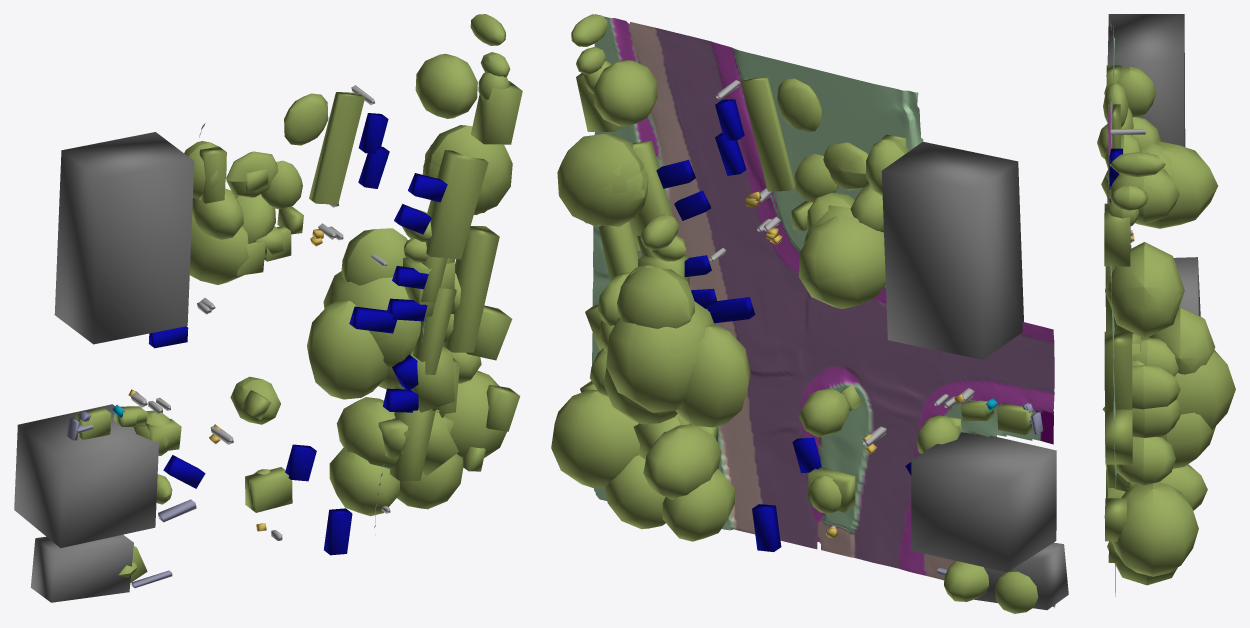
The model's file is medium_279.glb.
3 views of the same model, side by side, from view 1: azimuth 30°, elevation 25°; view 2: azimuth 150°, elevation 25°; view 3: azimuth 270°, elevation 25° (orthographic). The views are drawn at different scales.
Bounding box in the file's own units: 67.87 × 66.08 × 17.76.
